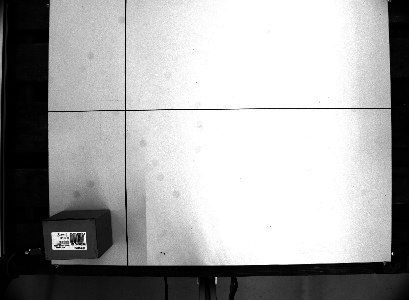b5: (39, 207, 116, 262)
